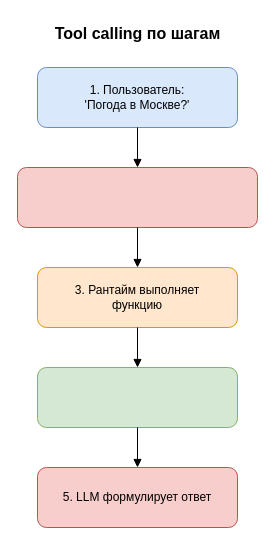
This 275x545 diagram has some shape labels left out. Each missing label, with the centre of its shape:
2. LLM генерирует вызов: {tool: get_weather, city: Москва}: the point at 137,197
4. Результат: +5°C: the point at 137,397
